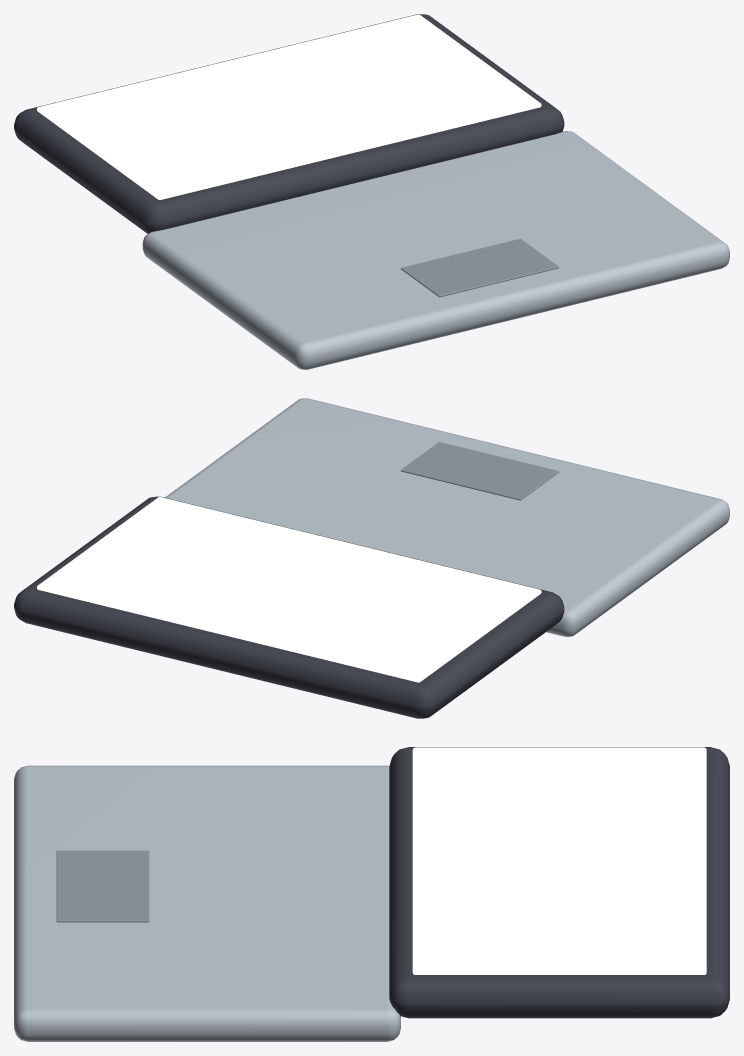
The model's file is computerMacbookClosed.glb.
3 views of the same model, one above another, from view 1: azimuth 30°, elevation 25°; view 2: azimuth 150°, elevation 25°; view 3: azimuth 270°, elevation 25° (orthographic). The views are drawn at different scales.
Parts seen in each view (by area): view 1: Laptop base, Screen, Monitor, Trackpad; view 2: Laptop base, Screen, Monitor, Trackpad; view 3: Laptop base, Screen, Monitor, Trackpad.
Boxes of the visible parts, box(x1,y1,x2,y2) form: Laptop base: box(142, 131, 729, 369); Screen: box(37, 14, 541, 199); Monitor: box(14, 14, 564, 233); Trackpad: box(400, 238, 559, 297); Laptop base: box(165, 398, 729, 636); Screen: box(37, 497, 541, 682); Monitor: box(14, 496, 564, 718); Trackpad: box(400, 442, 558, 500); Laptop base: box(14, 765, 400, 1041); Screen: box(412, 747, 706, 974); Monitor: box(389, 747, 729, 1018); Trackpad: box(56, 850, 149, 922).
Bounding box in the file's own units: 1.55 × 0.174 × 1.85.
